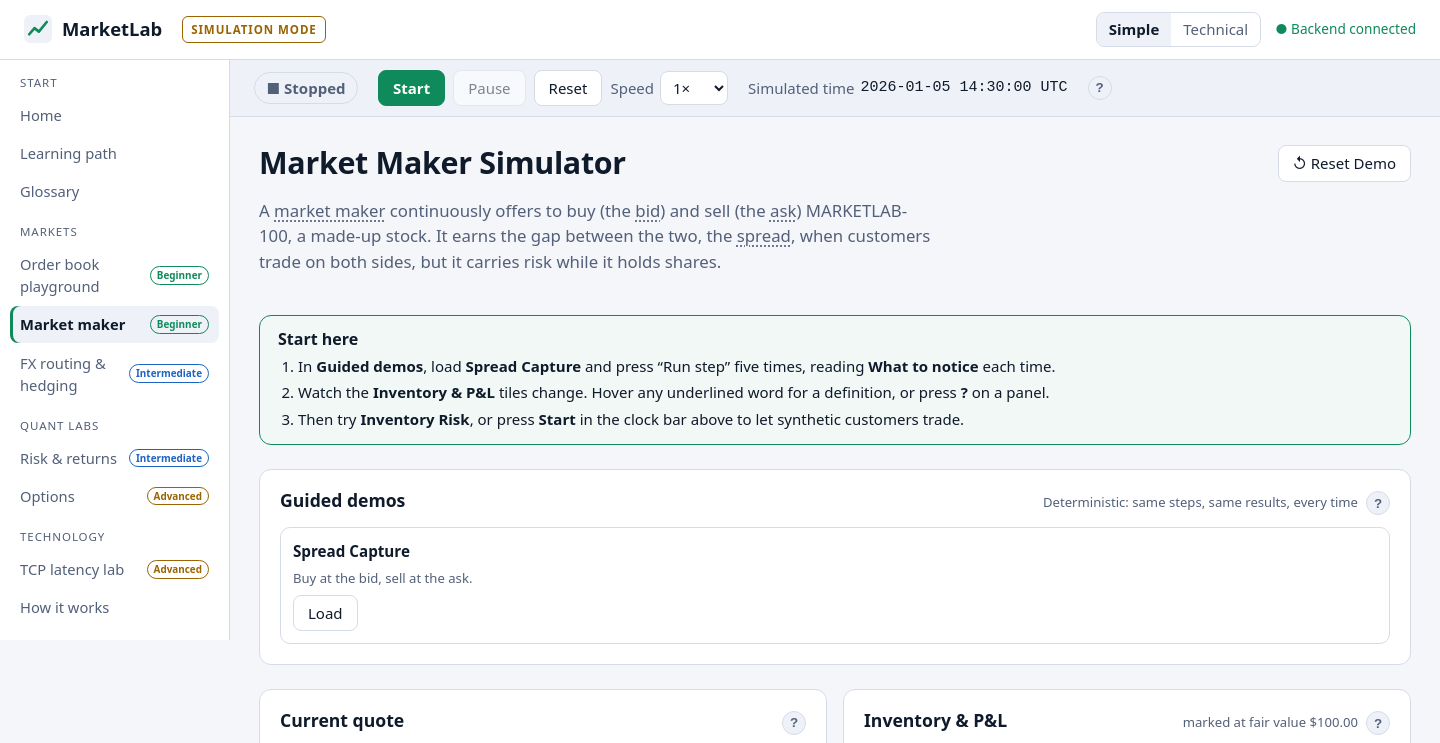
Test case: App shell › shows backend error messages from the error envelope
The image size is (1440, 743).
Click the button "Start". click: (412, 88)
box: top-left (378, 70), bottom-right (445, 106)
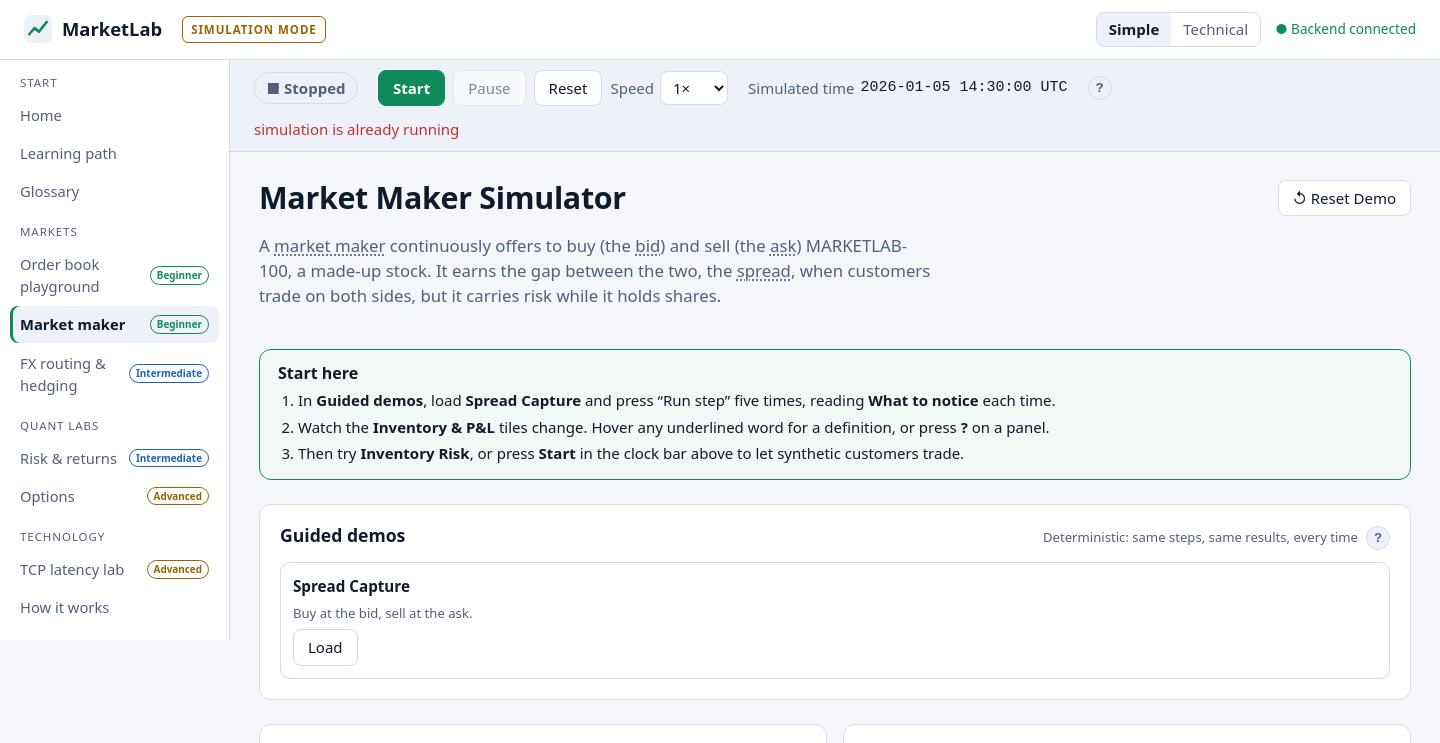
Expected: the message "simulation is already running" is shown, top-left (254, 119), bottom-right (459, 139)
